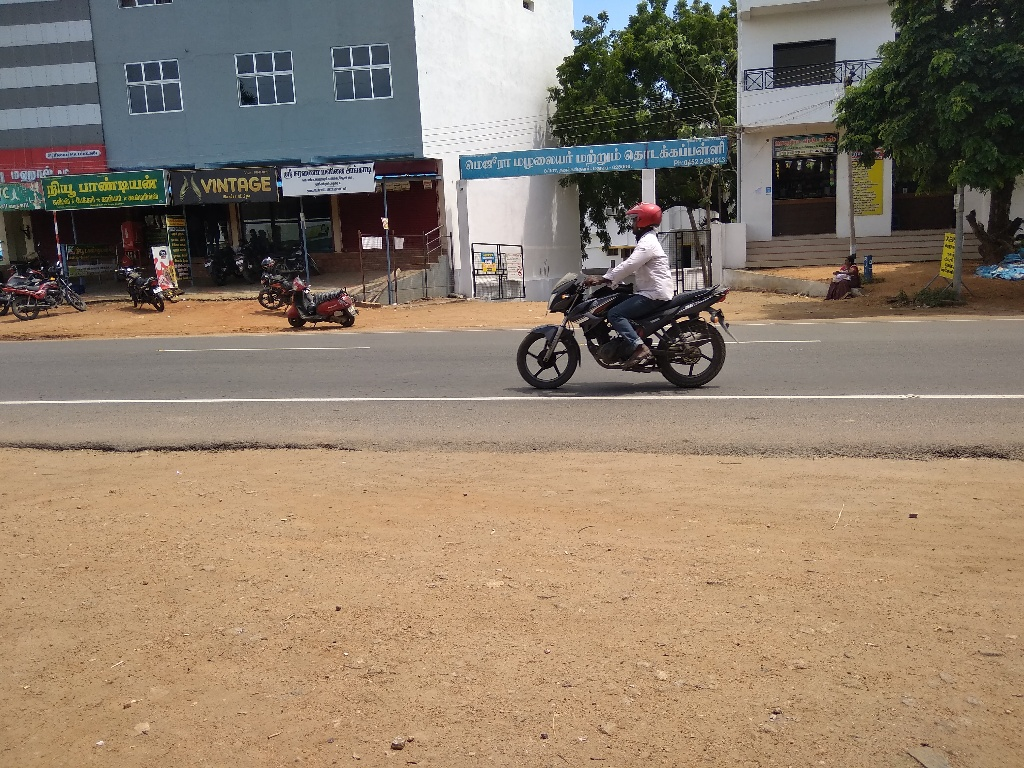biker: (509, 170, 753, 399)
helmet: (617, 191, 671, 247)
